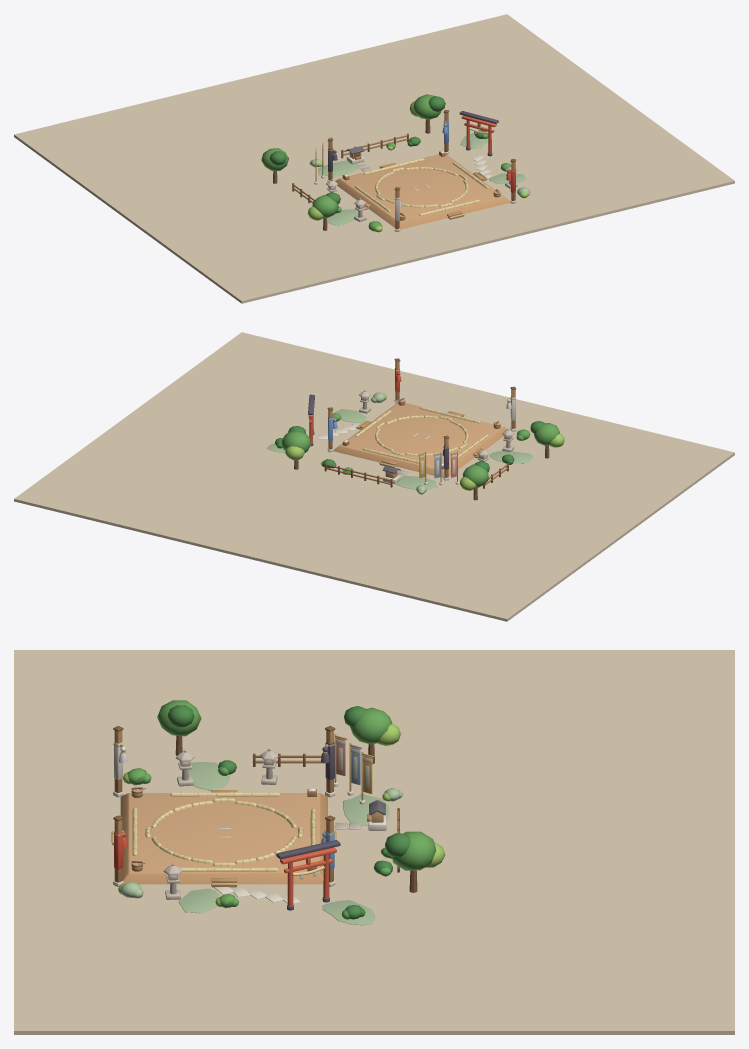
Rendered from dohyo_kit.glb.
The picture shows the model from 3 angles, top to bottom: view 1: azimuth 30°, elevation 25°; view 2: azimuth 150°, elevation 25°; view 3: azimuth 270°, elevation 25°; orthographic projection. The views are drawn at different scales.
Visible parts, largest first — view 1: YARD_Ground, DOHYO_Mound, YARD_Tree_02, YARD_Tree_03, YARD_Torii, YARD_Tree_01; view 2: YARD_Ground, DOHYO_Mound, YARD_Tree_02, YARD_Tree_03, YARD_Tree_01; view 3: YARD_Ground, DOHYO_Mound, YARD_Tree_02, YARD_Tree_01, YARD_Torii, YARD_Tree_03, YARD_Moss_01, YARD_Moss_02, YARD_Moss_03, ROOF_Post_03, ROOF_Post_04, YARD_Moss_04 (+1 smaller).
Part boxes in pixels (box(x1,y1,x2,y2)): YARD_Ground: box(14, 14, 734, 303); DOHYO_Mound: box(335, 154, 510, 229); YARD_Tree_02: box(409, 94, 445, 133); YARD_Tree_03: box(307, 192, 340, 230); YARD_Torii: box(459, 111, 498, 156); YARD_Tree_01: box(261, 148, 288, 183); YARD_Ground: box(14, 332, 734, 621); DOHYO_Mound: box(333, 403, 507, 477); YARD_Tree_02: box(281, 426, 310, 469); YARD_Tree_03: box(530, 421, 564, 458); YARD_Tree_01: box(460, 461, 489, 500); YARD_Ground: box(14, 650, 734, 1034); DOHYO_Mound: box(120, 793, 327, 884); YARD_Tree_02: box(385, 831, 445, 892); YARD_Tree_01: box(344, 706, 400, 764); YARD_Torii: box(276, 840, 340, 910); YARD_Tree_03: box(157, 700, 201, 755); YARD_Moss_01: box(182, 762, 230, 790); YARD_Moss_02: box(178, 888, 219, 913); YARD_Moss_03: box(343, 794, 389, 825); ROOF_Post_03: box(113, 726, 127, 797); ROOF_Post_04: box(321, 726, 335, 797); YARD_Moss_04: box(322, 900, 374, 925).
Bounding box in the file's own units: 60 × 5.29 × 48.
2 materials, 2 textured.
